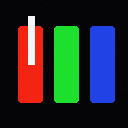4 line_v: (28, 16, 34, 64)
